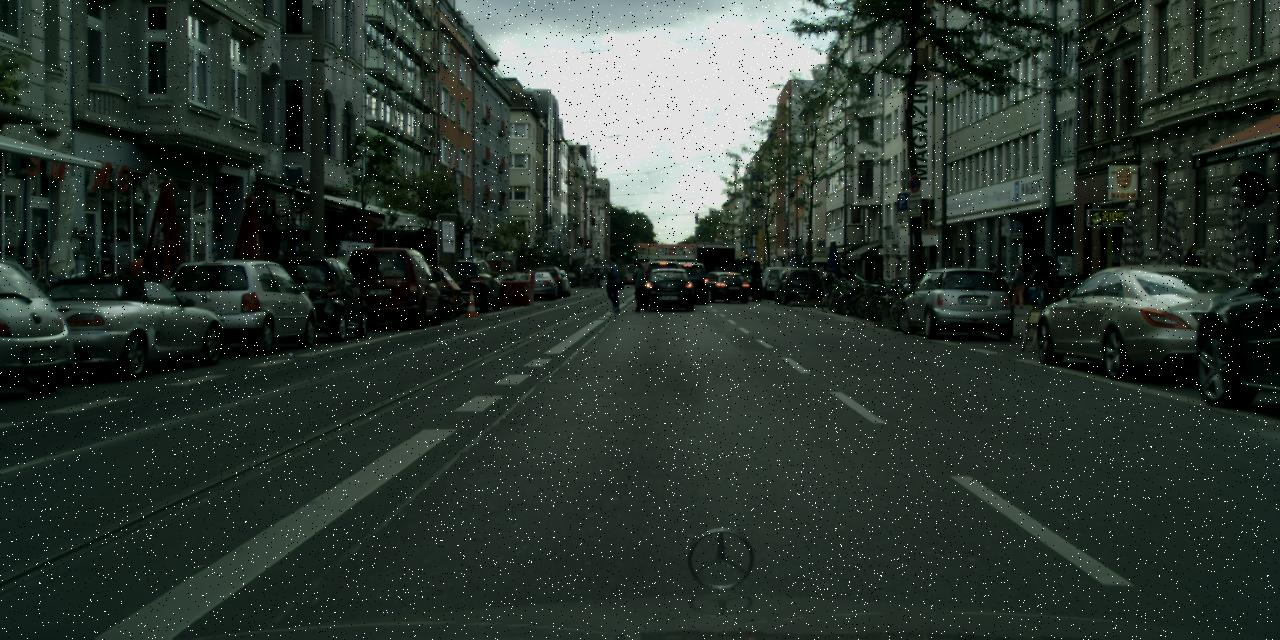ped: (125, 248, 156, 325), (1180, 244, 1206, 308), (818, 262, 854, 298), (1035, 255, 1057, 311), (1200, 253, 1222, 308), (603, 256, 625, 311), (629, 260, 649, 310), (1263, 248, 1279, 308), (982, 257, 1001, 304), (1040, 253, 1058, 299), (1008, 263, 1026, 308), (1048, 268, 1060, 298), (588, 270, 595, 288), (598, 272, 604, 287), (595, 272, 601, 286)
